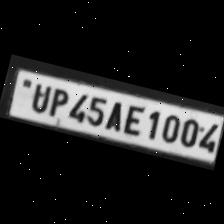0: (156, 110, 182, 144), (174, 114, 200, 148)
1: (140, 106, 163, 140)
4: (195, 117, 222, 153), (64, 87, 90, 123)
5: (82, 92, 108, 128)
A: (101, 96, 126, 132)
E: (119, 101, 147, 138)
P: (43, 84, 70, 120)
U: (25, 80, 52, 114)
